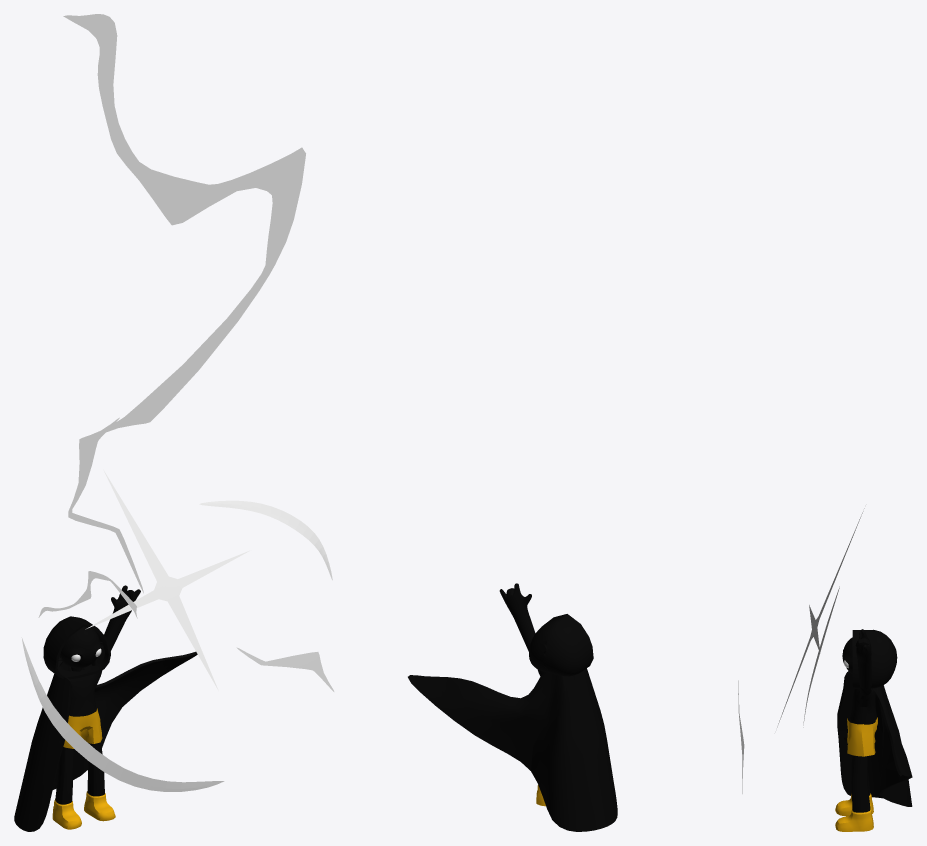
The model's file is saga.glb.
3 views of the same model, side by side, from view 1: azimuth 30°, elevation 25°; view 2: azimuth 150°, elevation 25°; view 3: azimuth 270°, elevation 25° (orthographic). The views are drawn at different scales.
Visible parts, largest first — view 1: Lightning Wizard; view 2: Lightning Wizard; view 3: Lightning Wizard.
Part boxes in pixels (<box>): Lightning Wizard: <box>14,14,334,831</box>; Lightning Wizard: <box>408,583,617,831</box>; Lightning Wizard: <box>738,508,912,831</box>.
Bounding box in the file's own units: 0.7196 × 1.71 × 0.3394.
2 materials, 2 textured.
